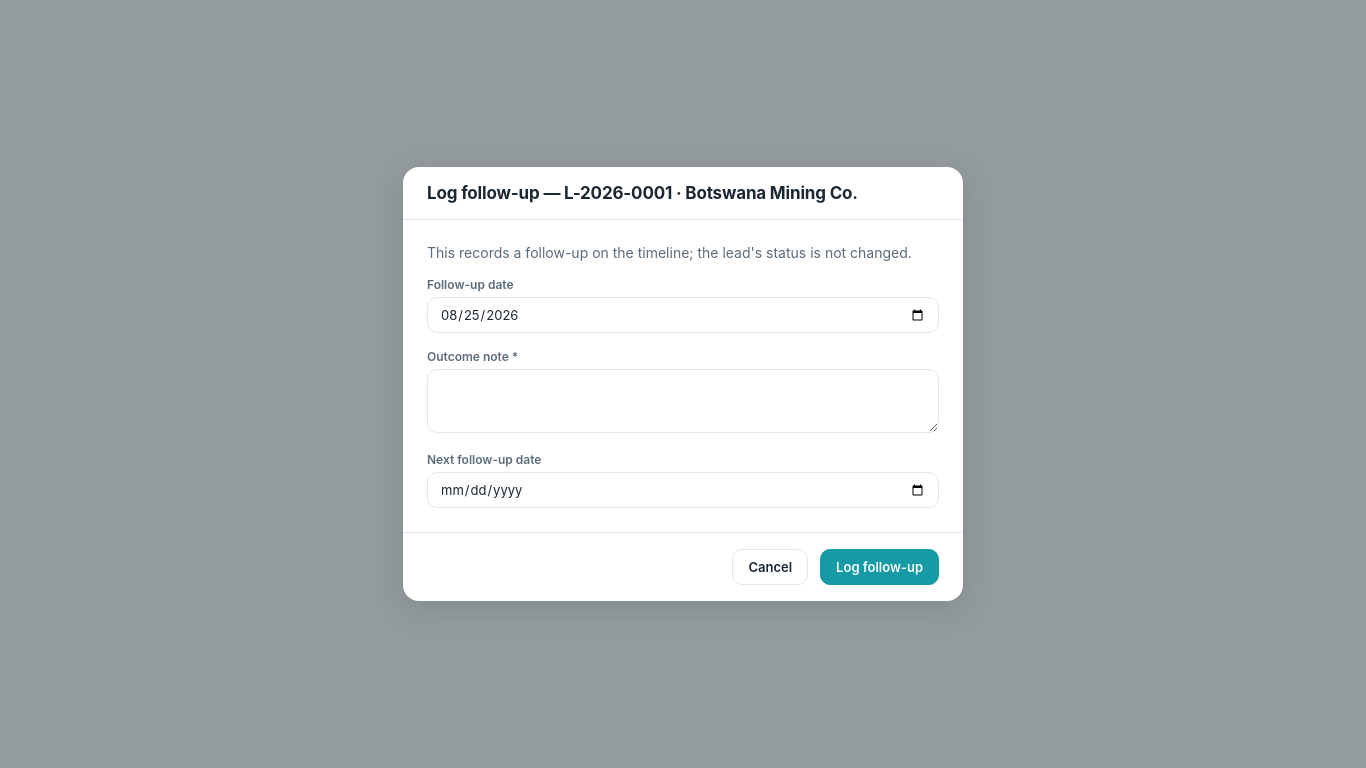
Test: LogFollowUpDialog › click_WhenConfirmedWithoutOutcomeNote_ShouldShowInlineErrorAndNotConfirm
This screenshot has width=1366, height=768.
Click the button with test id "dialog-primary-button".
click(880, 567)  # box left=820, top=549, right=939, bottom=585
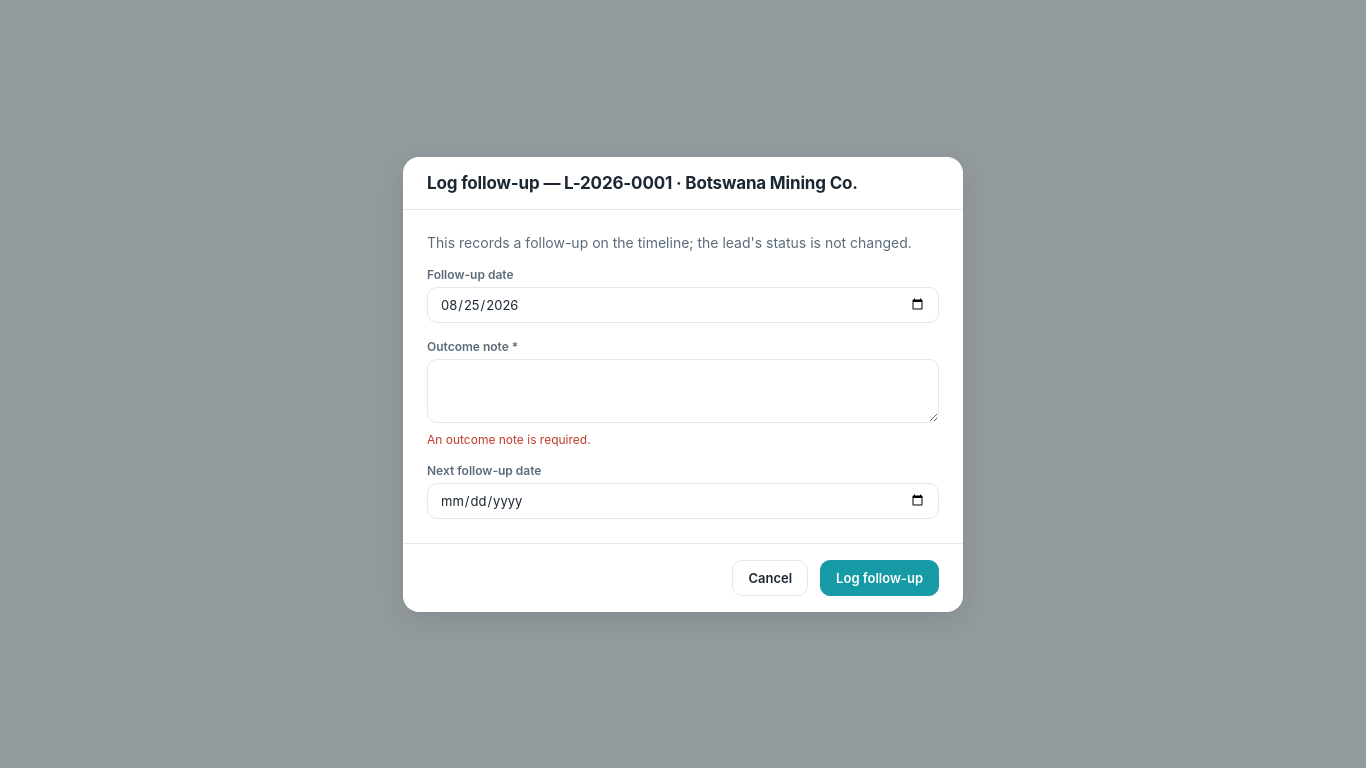
Check: the message "An outcome note is required." is shown, box left=427, top=432, right=591, bottom=446
